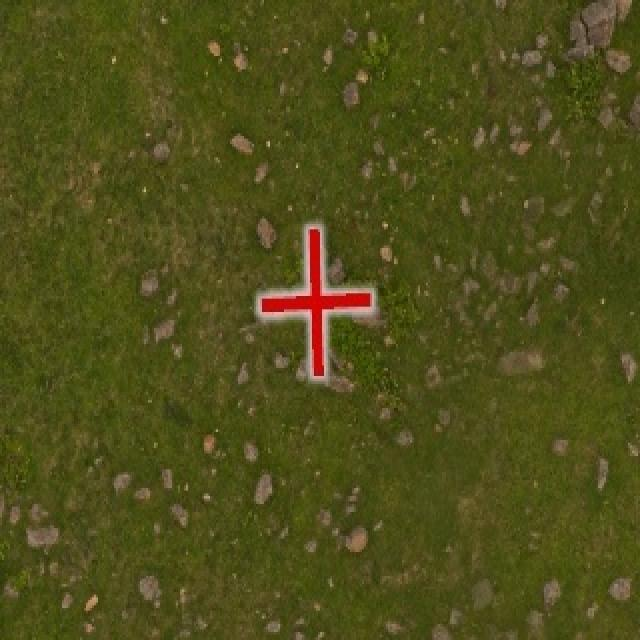x_marker: (259, 228, 371, 375)
